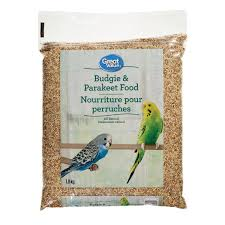budgie: (130, 101, 164, 176), (60, 132, 113, 178)
